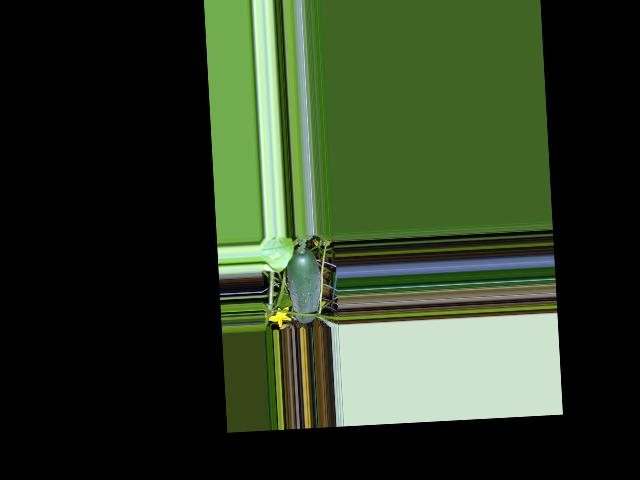cucumber: (286, 245, 322, 323)
